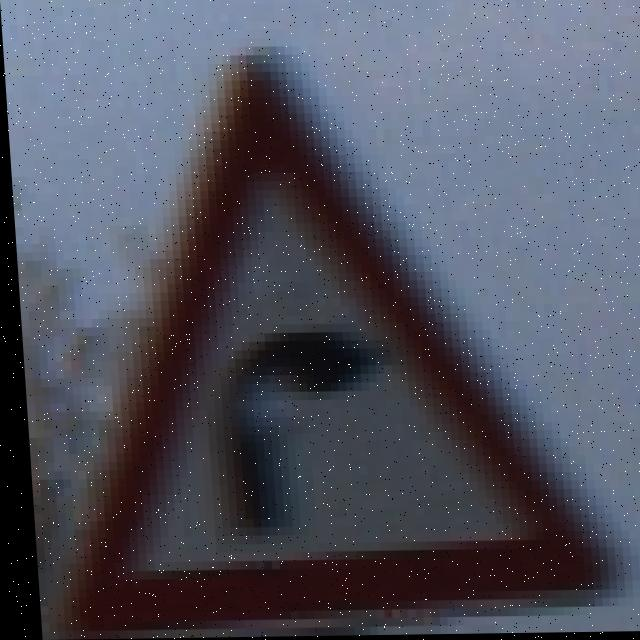right_turn: (63, 118, 597, 639)
